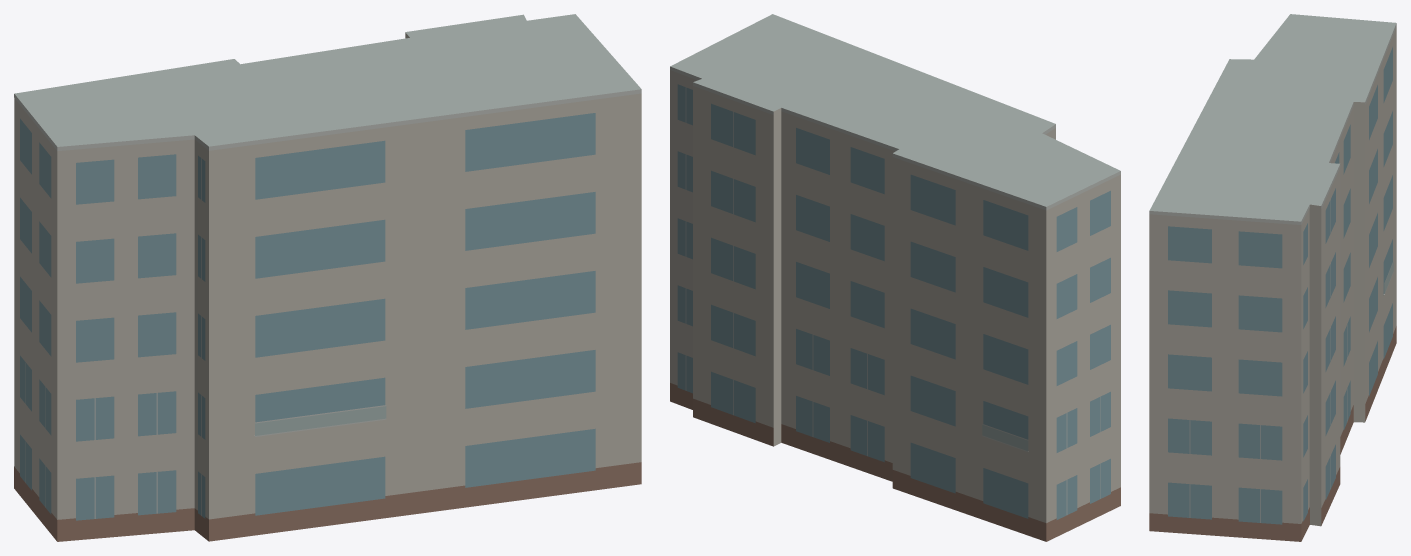
File: survey-upis-32538365.glb
The picture shows the model from 3 angles, left to right: view 1: azimuth 30°, elevation 25°; view 2: azimuth 150°, elevation 25°; view 3: azimuth 270°, elevation 25°; orthographic projection. The views are drawn at different scales.
Visible parts, largest first — view 1: survey-upis-32538365.tmp; view 2: survey-upis-32538365.tmp; view 3: survey-upis-32538365.tmp.
Part boxes in pixels (box(x1,y1,x2,y2)): survey-upis-32538365.tmp: box(14, 14, 641, 541); survey-upis-32538365.tmp: box(670, 14, 1120, 541); survey-upis-32538365.tmp: box(1149, 14, 1396, 541).
Size of the model in its own units: 31.72 by 22.8 by 15.96.
